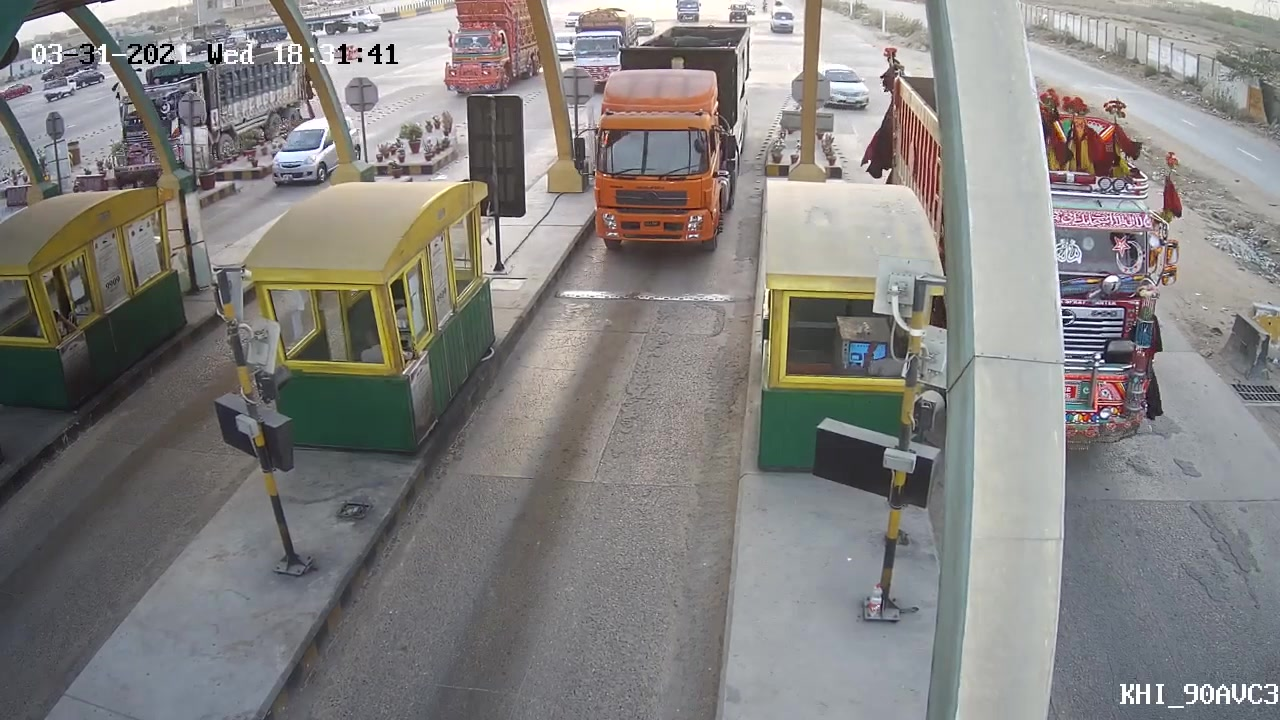F6: (563, 22, 756, 255)
